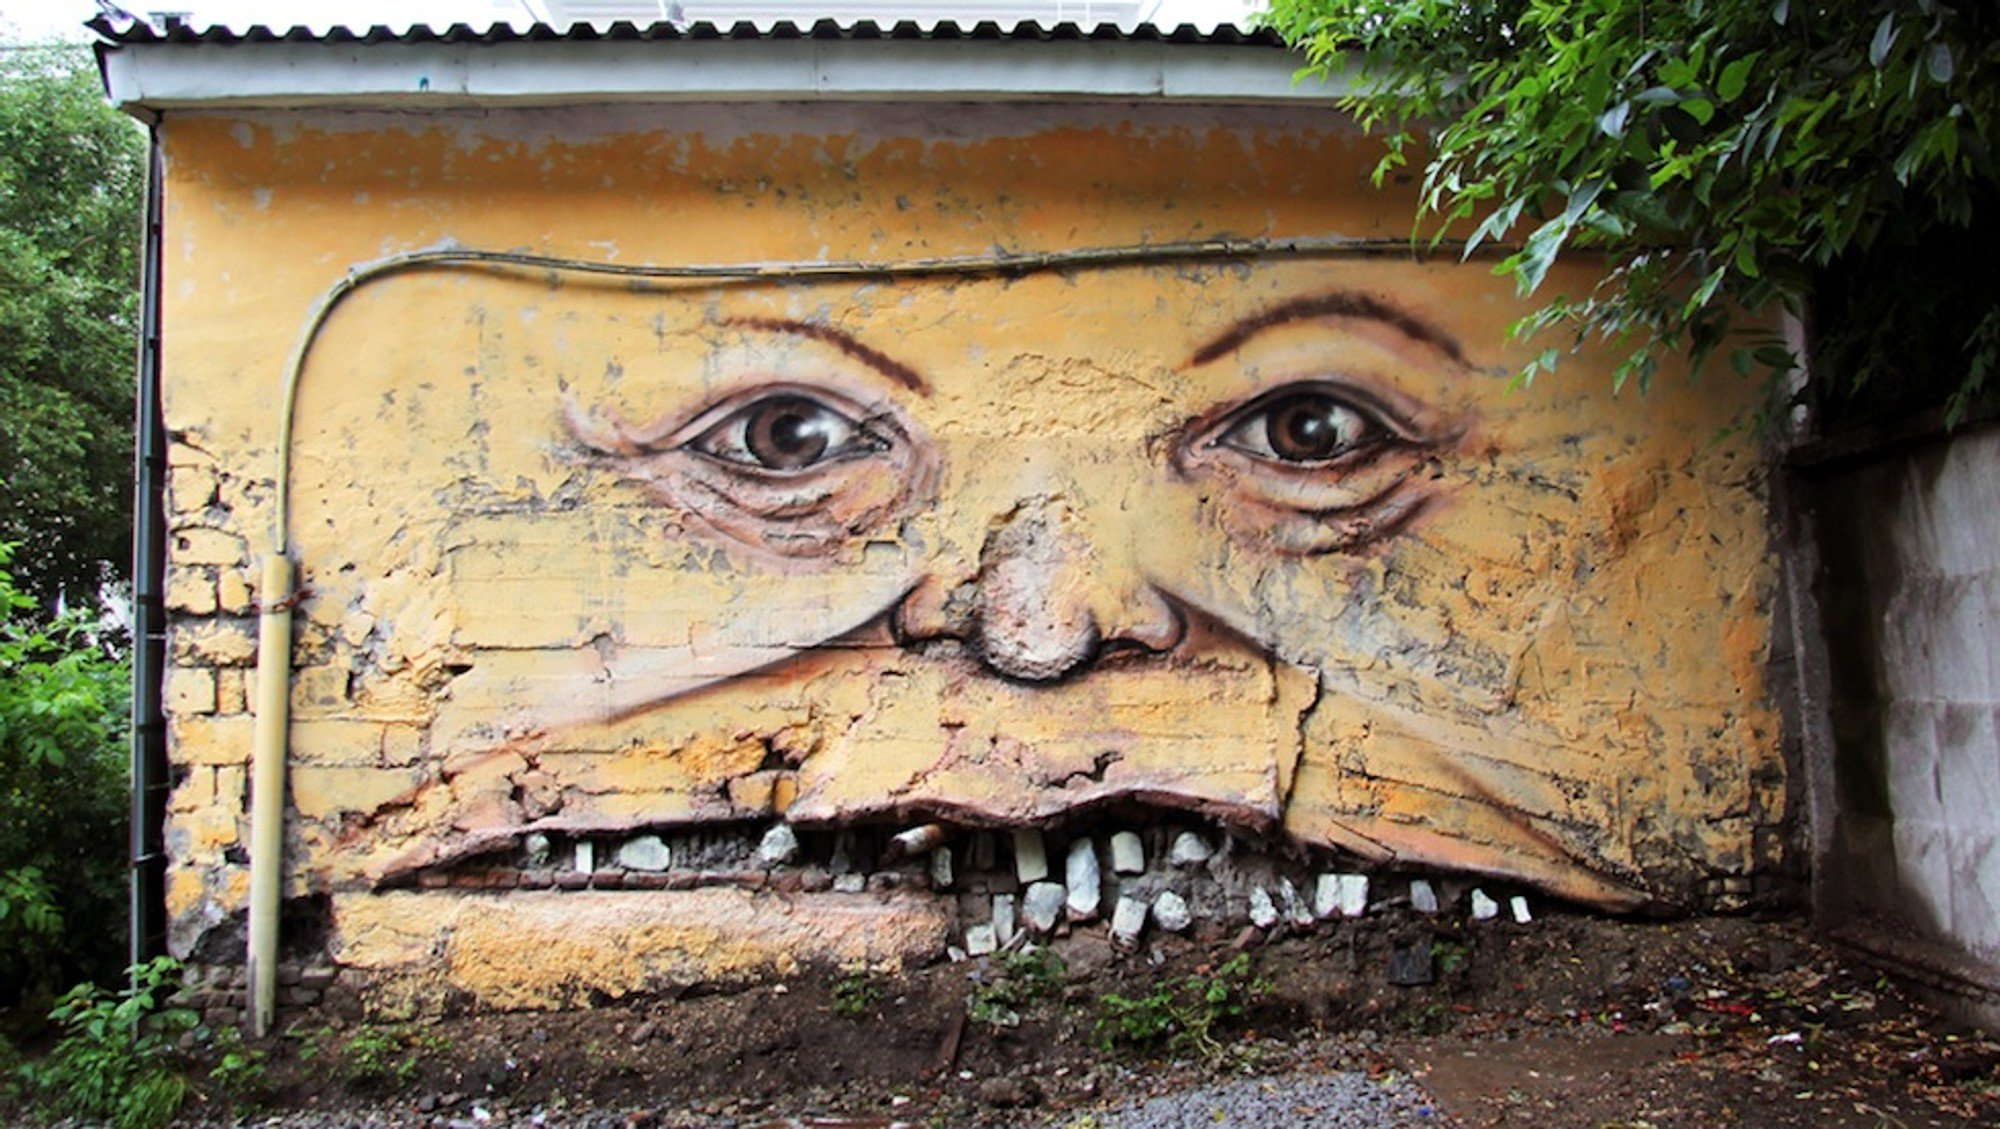graphite: (589, 266, 1569, 797)
